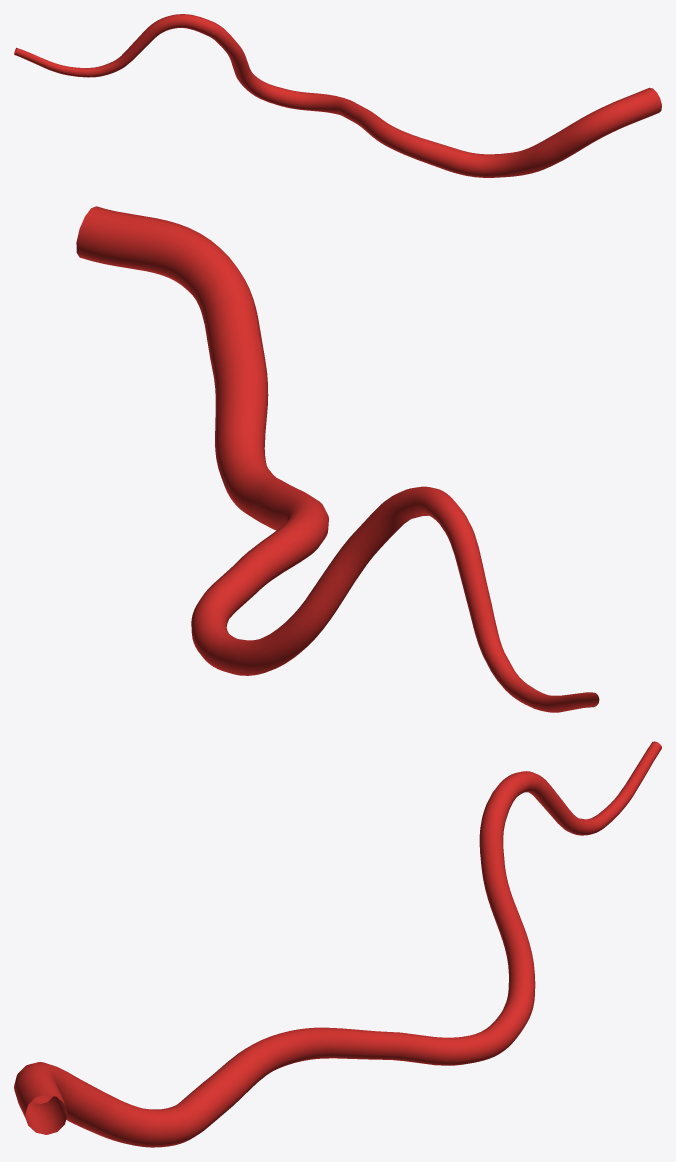
The model's file is circulatorio-anterior-inferior-cerebellar-artery-r.glb.
3 views of the same model, one above another, from view 1: azimuth 30°, elevation 25°; view 2: azimuth 150°, elevation 25°; view 3: azimuth 270°, elevation 25° (orthographic). The views are drawn at different scales.
Visible parts, largest first — view 1: Anterior inferior cerebellar artery.r; view 2: Anterior inferior cerebellar artery.r; view 3: Anterior inferior cerebellar artery.r.
Boxes of the visible parts, left/top/right/bottom form: Anterior inferior cerebellar artery.r: left=14, top=14, right=661, bottom=177; Anterior inferior cerebellar artery.r: left=76, top=206, right=599, bottom=712; Anterior inferior cerebellar artery.r: left=14, top=741, right=661, bottom=1147.
Size of the model in its own units: 0.0346 by 0.00983 by 0.0273.
